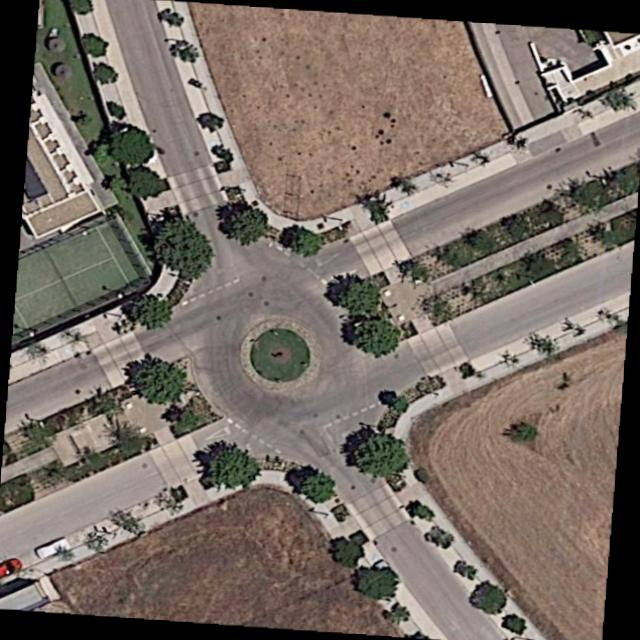small-vehicle: (33, 535, 71, 560), (0, 554, 23, 577)
